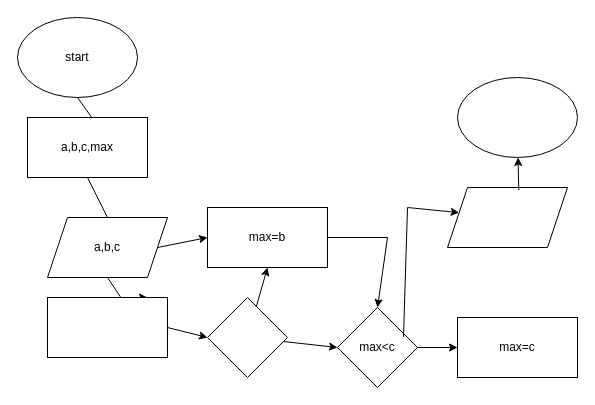
Image size: 595x405. Some labels were removed from this diagram. The centre of each missing label's shape, as x and y in pixels:
"max" belongs at point (507, 217).
"max<b" belongs at point (247, 337).
"max=a" belongs at point (107, 327).
